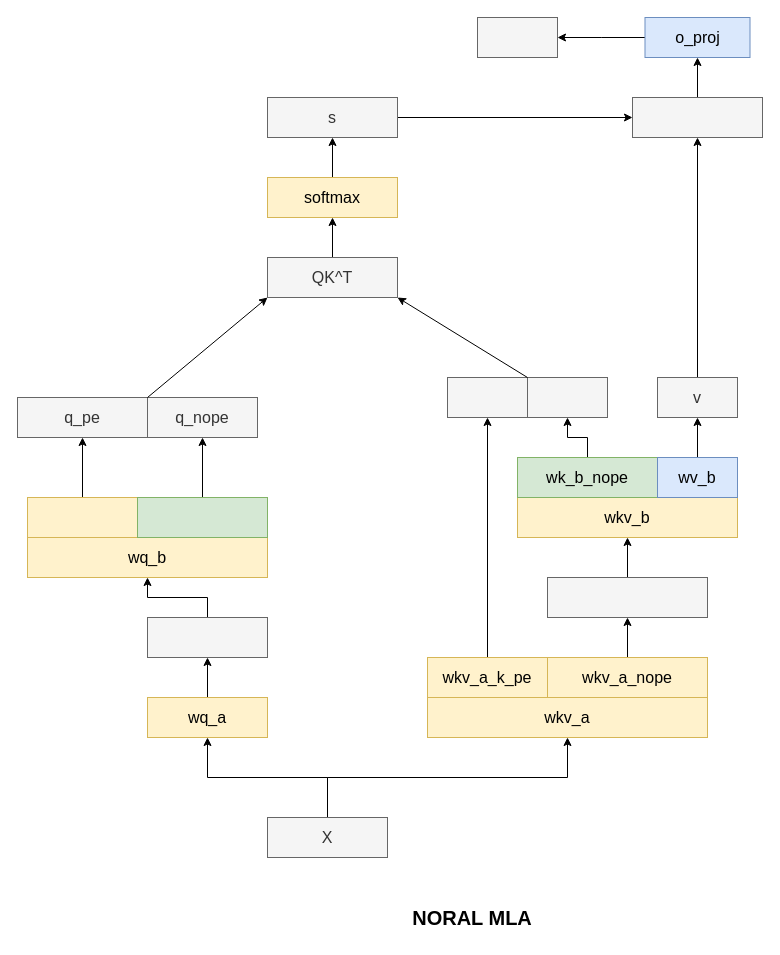
The diagram is 780 pixels wide and 955 high, and some of its shapes have lost their labels. Here are the shapes that lost their labels. From the top down, the box of each, then its label:
(476, 16, 558, 58): out
(632, 96, 762, 138): sv
(446, 376, 528, 418): k_pe
(526, 376, 608, 418): k_nope
(26, 496, 138, 538): wq_b_pe
(136, 496, 268, 538): wq_b_nope
(546, 576, 708, 618): kv_latent
(146, 616, 268, 658): q_latent
